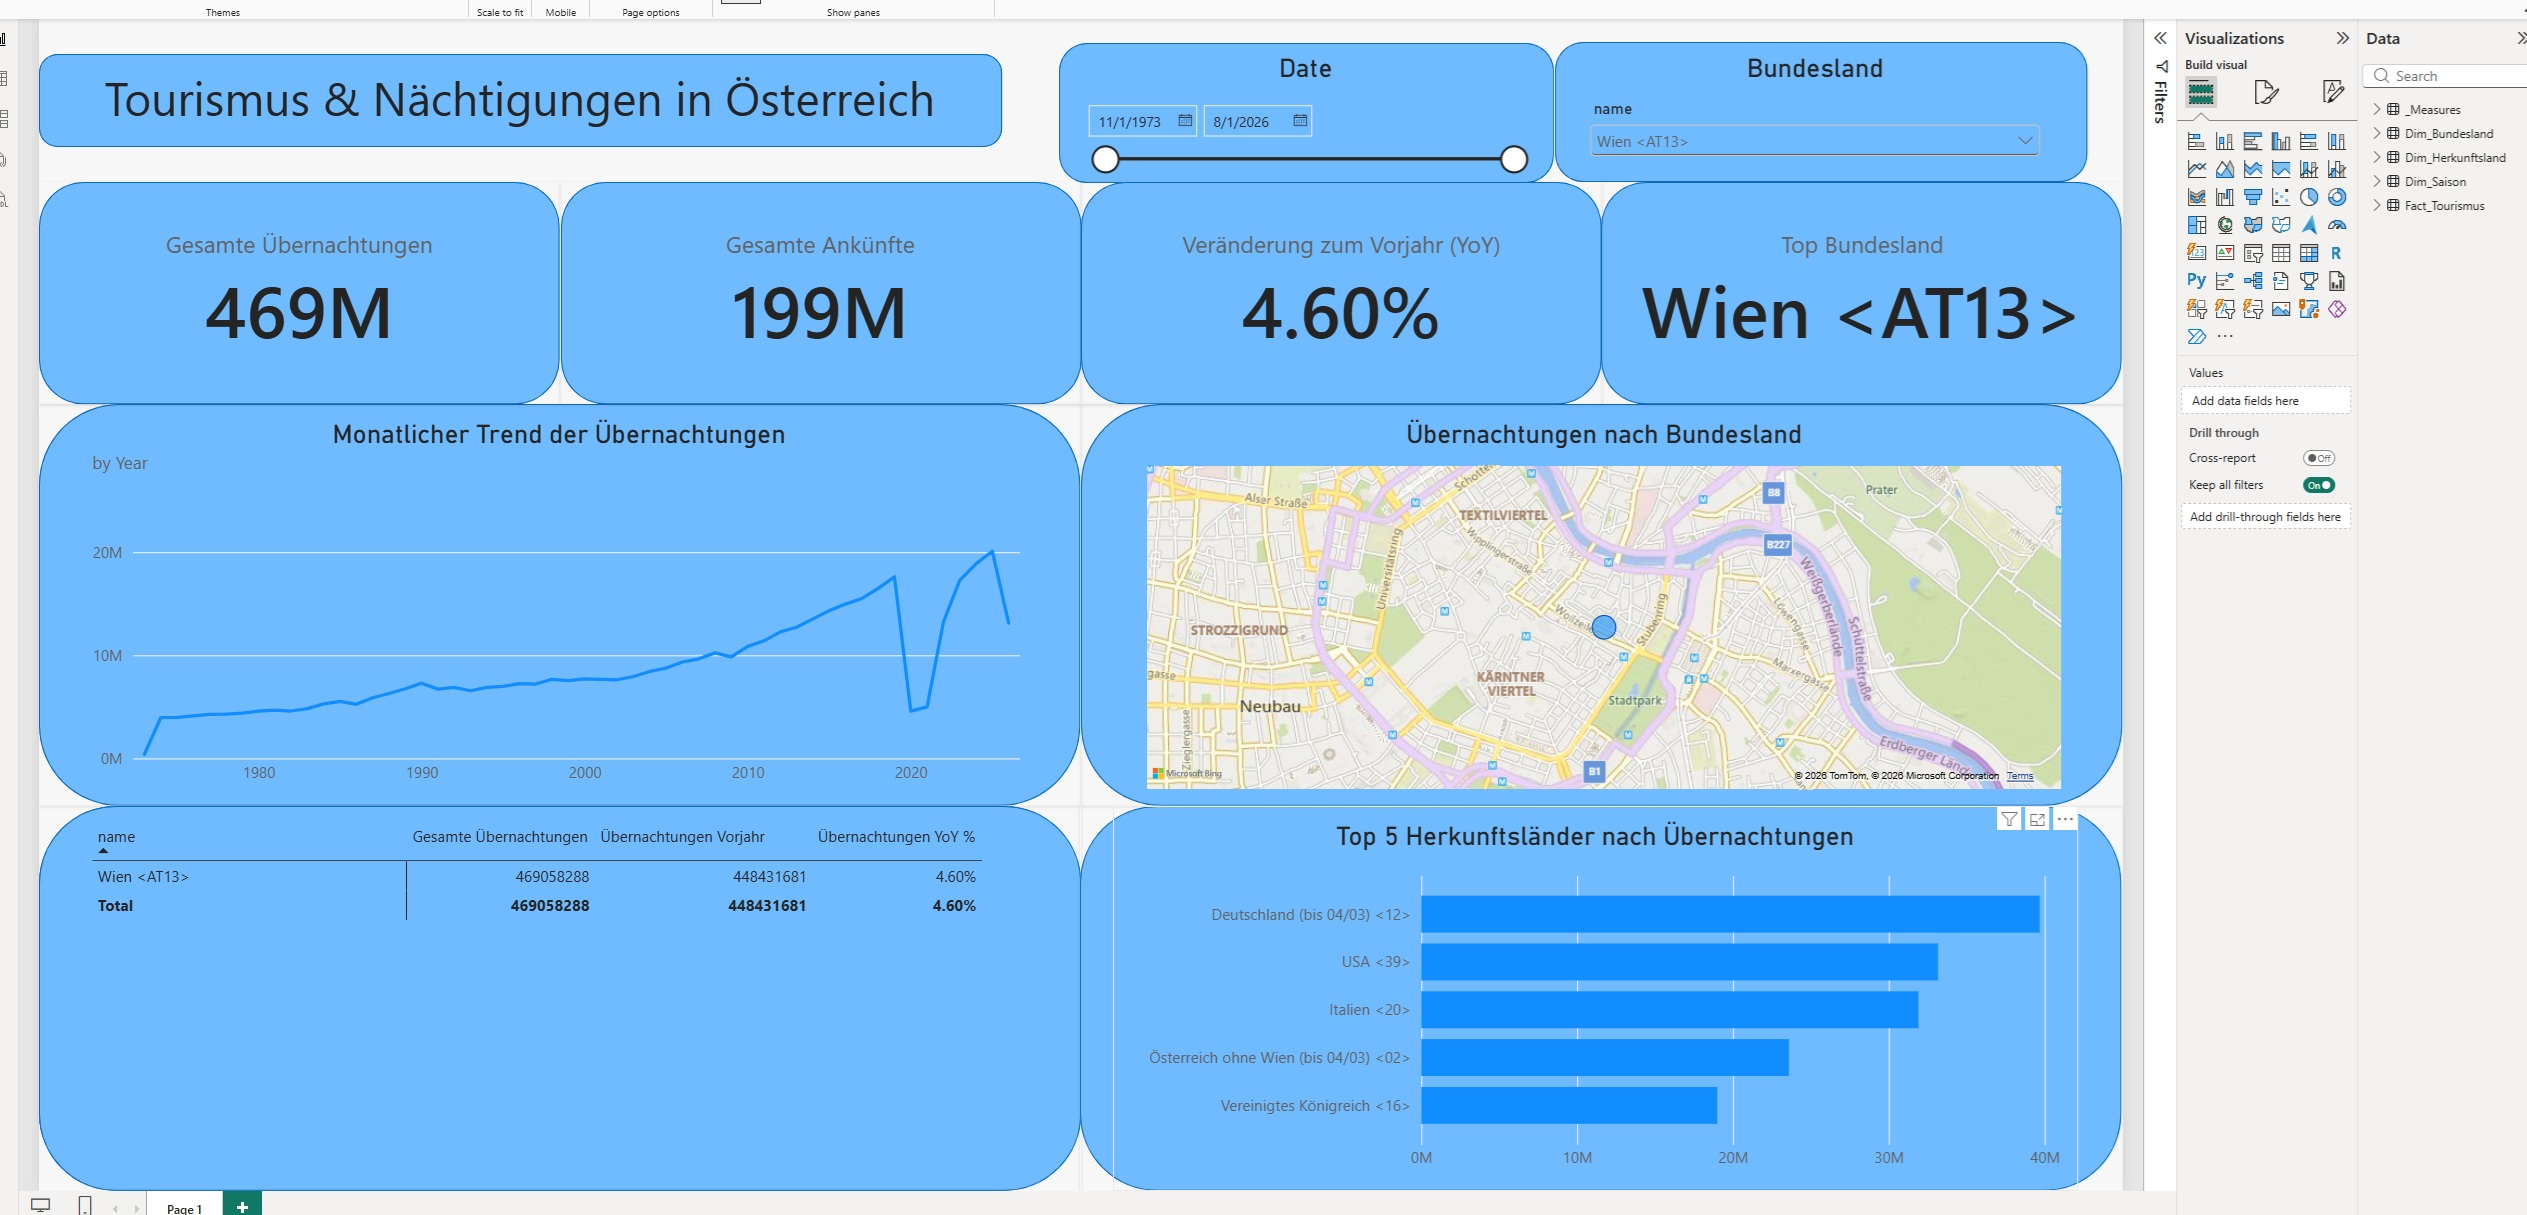

The page's visual inventory and layout, read from the dashboard file:
{"tool":"powerbi","page":{"name":"Page 1","canvas":[1920,1080],"ordinal":0},"visuals":[{"type":"shape","box":[0,31.6,887.6,85.7],"z":0,"group":"g1"},{"type":"group","id":"g1","title":"background","box":[0,20.8,1920,1059],"z":500},{"type":"shape","box":[939.7,22,456.1,129.1],"z":1000,"group":"g1"},{"type":"slicer","title":"Date","fields":{"Values":["Dim_Saison.Date"]},"box":[959.5,31.6,416,118.6],"z":1000},{"type":"shape","box":[1396.9,20.8,490.6,129.1],"z":2000,"group":"g1"},{"type":"slicer","title":"Bundesland","fields":{"Values":["Dim_Bundesland.name"]},"box":[1424.9,31.6,423.9,118.6],"z":2000},{"type":"shape","box":[0,149.9,479.8,204.9],"z":3000,"group":"g1"},{"type":"pivotTable","fields":{"Rows":["Dim_Bundesland.name"],"Values":["_Measures.Gesamte Übernachtungen","_Measures.Übernachtungen Vorjahr","_Measures.Übernachtungen YoY %"]},"box":[33.6,725.3,884.4,354.8],"z":3000},{"type":"shape","box":[480.7,149.9,479.8,204.9],"z":4000,"group":"g1"},{"type":"lineChart","fields":{"Category":["Dim_Saison.Date.Variation.Date Hierarchy.Year","Dim_Saison.Date.Variation.Date Hierarchy.Quarter","Dim_Saison.Date.Variation.Date Hierarchy.Month","Dim_Saison.Date.Variation.Date Hierarchy.Day"],"Y":["_Measures.Gesamte Übernachtungen"]},"box":[33.6,354.8,892.3,370.6],"z":4000},{"type":"shape","box":[960.5,149.9,479.8,204.9],"z":5000,"group":"g1"},{"type":"map","title":"Übernachtungen nach Bundesland","fields":{"Category":["Dim_Bundesland.name"],"Size":["_Measures.Gesamte Übernachtungen"]},"box":[1005,354.8,873.5,370.6],"z":5000},{"type":"shape","box":[1439.3,149.9,479.8,204.9],"z":6000,"group":"g1"},{"type":"cardVisual","fields":{"Data":["_Measures.Gesamte Übernachtungen"]},"box":[0,150.2,480,204.9],"z":6000},{"type":"cardVisual","fields":{"Data":["_Measures.Gesamte Ankünfte"]},"box":[480,150.1,480,204.9],"z":7000},{"type":"shape","box":[0,354.8,959.5,370.4],"z":7000,"group":"g1"},{"type":"cardVisual","fields":{"Data":["_Measures.Übernachtungen YoY %"]},"box":[960,150.1,480,204.9],"z":8000},{"type":"shape","box":[960.5,354.8,959.5,370.4],"z":8000,"group":"g1"},{"type":"cardVisual","fields":{"Data":["_Measures.Top Bundesland"]},"box":[1440,150.1,480,204.9],"z":9000},{"type":"shape","box":[0,725.2,959.5,354.6],"z":9000,"group":"g1"},{"type":"shape","box":[0,725.2,960.5,354.6],"z":10000,"group":"g1"},{"type":"clusteredBarChart","title":"Top 5 Herkunftsländer nach Übernachtungen","fields":{"Category":["Dim_Herkunftsland.name"],"Y":["_Measures.Gesamte Übernachtungen"]},"box":[990.1,725.3,888.4,354.8],"z":10000},{"type":"textbox","box":[19.8,43.5,847.2,65],"z":11000},{"type":"shape","box":[959.5,725.2,959.5,354.6],"z":11000,"group":"g1"}]}

Visuals, with their boxes in screenshot pixels (x1, y1, x2, y2):
shape: x1=33 y1=54 x2=985 y2=146
"background" group: x1=33 y1=42 x2=2092 y2=1178
shape: x1=1041 y1=43 x2=1530 y2=182
"Date" slicer: x1=1062 y1=54 x2=1508 y2=181
shape: x1=1531 y1=42 x2=2057 y2=180
"Bundesland" slicer: x1=1561 y1=54 x2=2015 y2=181
shape: x1=33 y1=180 x2=547 y2=400
pivotTable - Dim_Bundesland.name x _Measures.Gesamte Übernachtungen: x1=69 y1=797 x2=1017 y2=1178
shape: x1=548 y1=180 x2=1063 y2=400
lineChart - Dim_Saison.Date.Variation.Date Hierarchy.Year x Dim_Saison.Date.Variation.Date Hierarchy.Quarter: x1=69 y1=400 x2=1026 y2=798
shape: x1=1063 y1=180 x2=1577 y2=400
"Übernachtungen nach Bundesland" map: x1=1111 y1=400 x2=2047 y2=798
shape: x1=1576 y1=180 x2=2091 y2=400
cardVisual - _Measures.Gesamte Übernachtungen: x1=33 y1=181 x2=548 y2=400
cardVisual - _Measures.Gesamte Ankünfte: x1=548 y1=181 x2=1062 y2=400
shape: x1=33 y1=400 x2=1062 y2=797
cardVisual - _Measures.Übernachtungen YoY %: x1=1062 y1=181 x2=1577 y2=400
shape: x1=1063 y1=400 x2=2092 y2=797
cardVisual - _Measures.Top Bundesland: x1=1577 y1=181 x2=2092 y2=400
shape: x1=33 y1=797 x2=1062 y2=1178
shape: x1=33 y1=797 x2=1063 y2=1178
"Top 5 Herkunftsländer nach Übernachtungen" clusteredBarChart: x1=1095 y1=797 x2=2047 y2=1178
textbox: x1=54 y1=66 x2=963 y2=136
shape: x1=1062 y1=797 x2=2091 y2=1178
